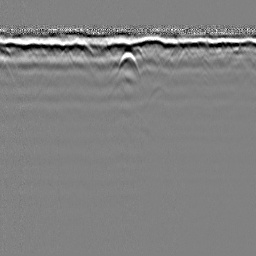cavity: (115, 50, 141, 76)
